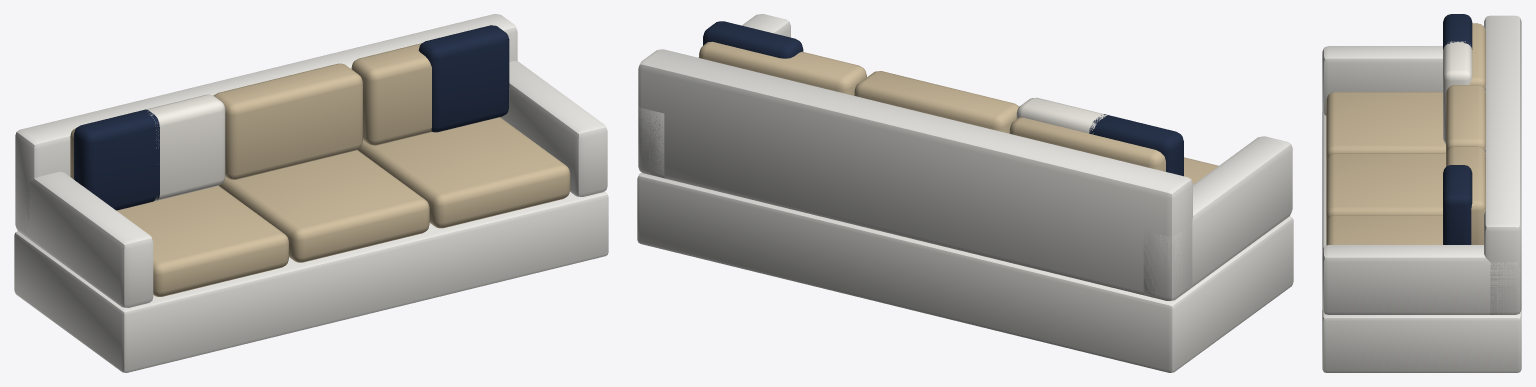
Rendered from marlin_sofa.glb.
The picture shows the model from 3 angles, left to right: view 1: azimuth 30°, elevation 25°; view 2: azimuth 150°, elevation 25°; view 3: azimuth 270°, elevation 25°; orthographic projection. The views are drawn at different scales.
Visible parts, largest first — view 1: marlin_sofa; view 2: marlin_sofa; view 3: marlin_sofa.
Boxes of the visible parts, left/top/right/bottom form: marlin_sofa: left=14, top=14, right=608, bottom=372; marlin_sofa: left=637, top=14, right=1293, bottom=372; marlin_sofa: left=1322, top=14, right=1521, bottom=372.
Bounding box in the file's own units: 2.4 × 0.86 × 0.95.
